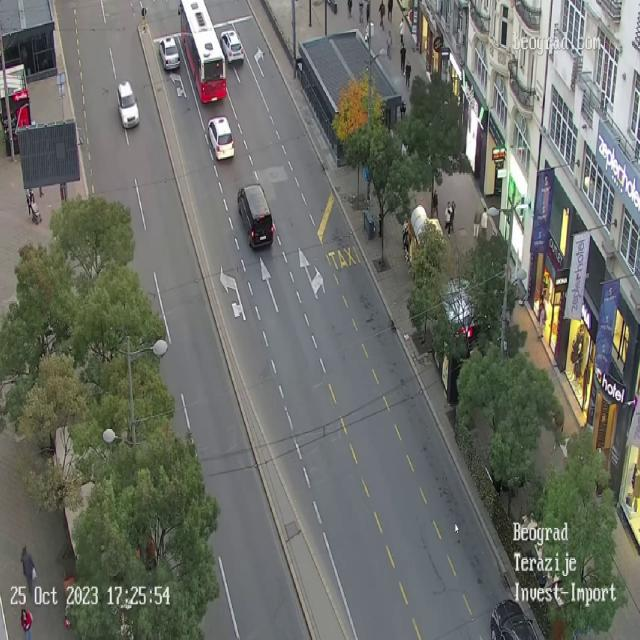car: (439, 276, 478, 346), (237, 182, 275, 250), (490, 598, 539, 640), (207, 115, 235, 161), (117, 80, 139, 129), (220, 30, 244, 64), (159, 36, 180, 71)
